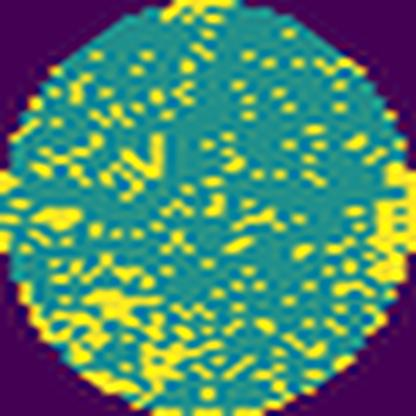Edge-Loc: (366, 154, 416, 297)
